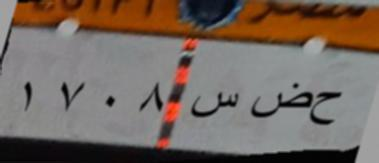0: (100, 82, 125, 123)
1: (15, 68, 41, 127)
7: (48, 73, 90, 116)
7aa: (312, 83, 344, 130)
8: (134, 77, 173, 117)
daad: (247, 76, 310, 126)
seen: (192, 84, 242, 128)
